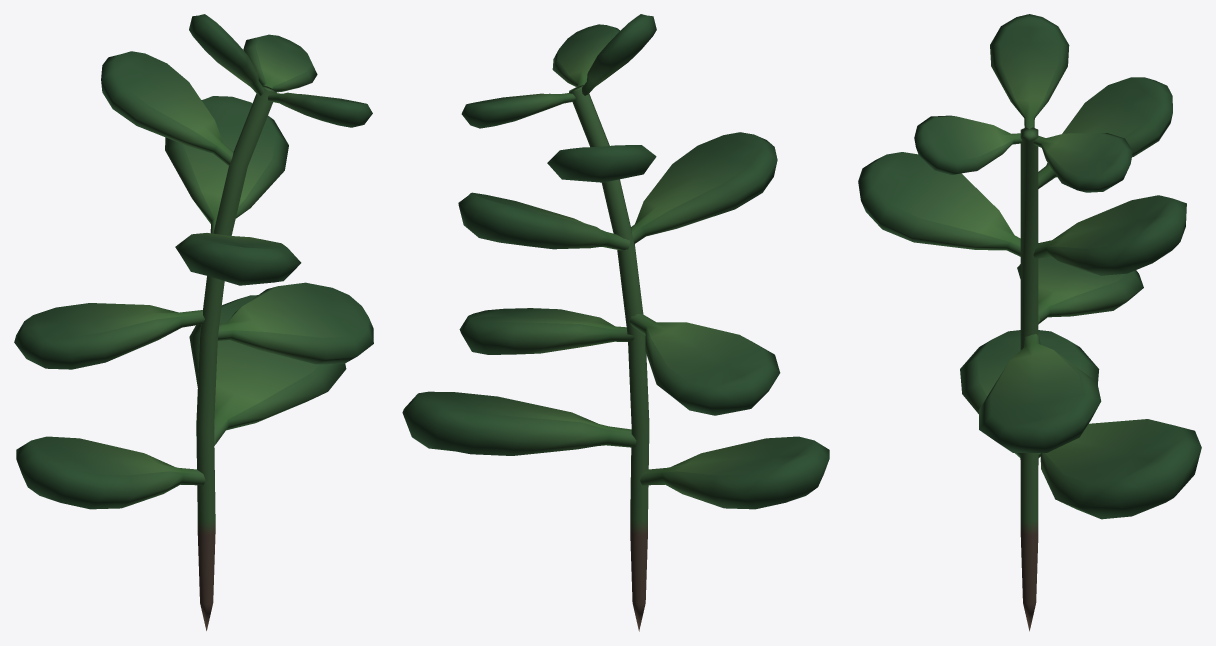
Rendered from plants-cacti-succulents-jade-plant_v1.fbx.
3 views of the same model, side by side, from view 1: azimuth 30°, elevation 25°; view 2: azimuth 150°, elevation 25°; view 3: azimuth 270°, elevation 25° (orthographic).
Visible parts, largest first — view 1: Jade Plant_v1; view 2: Jade Plant_v1; view 3: Jade Plant_v1.
Boxes of the visible parts, x1=… form: Jade Plant_v1: x1=14, y1=14, x2=373, y2=630; Jade Plant_v1: x1=402, y1=14, x2=829, y2=631; Jade Plant_v1: x1=858, y1=14, x2=1201, y2=631.
Size of the model in its own units: 0.1849 by 0.3 by 0.152.
